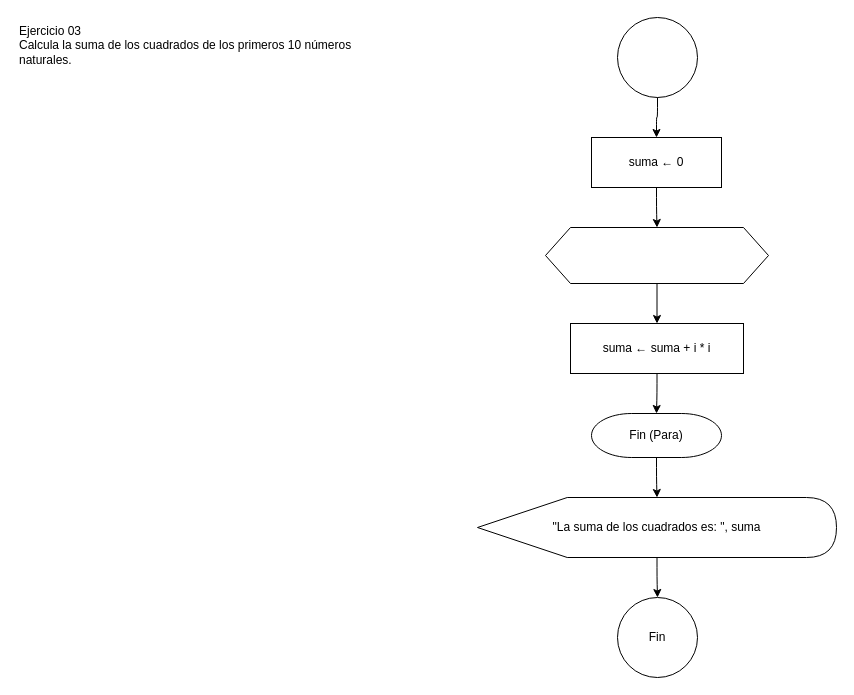
The diagram is 854 pixels wide and 695 high, and some of its shapes have lost their labels. Here are the shapes that lost their labels. From the top down, the box of each, then its label:
(616, 16, 698, 98): Inicio
(544, 226, 768, 284): Para i ← 1 , 10 , 1
